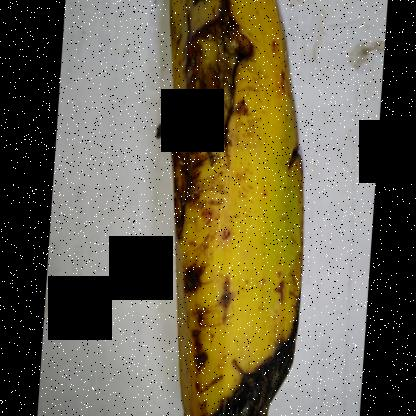ripe: (154, 0, 307, 347)
rotten: (127, 0, 266, 239), (177, 323, 311, 415)
